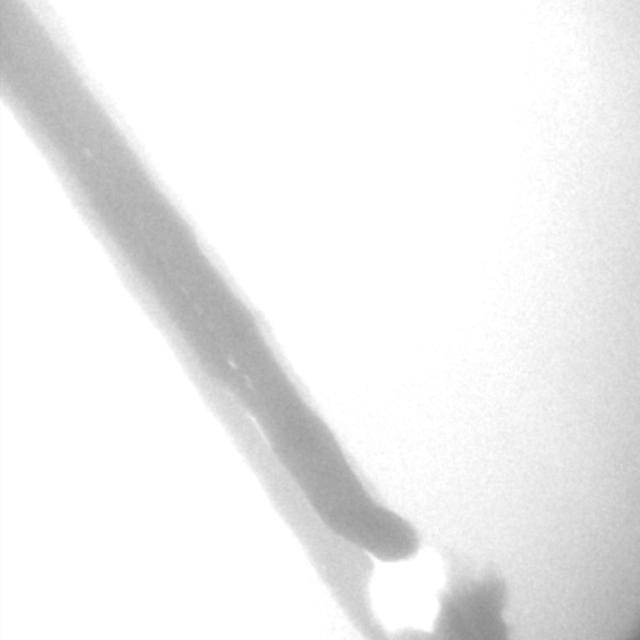air hole: (82, 145, 93, 157), (227, 357, 236, 369)
broken arc: (245, 408, 435, 636)
